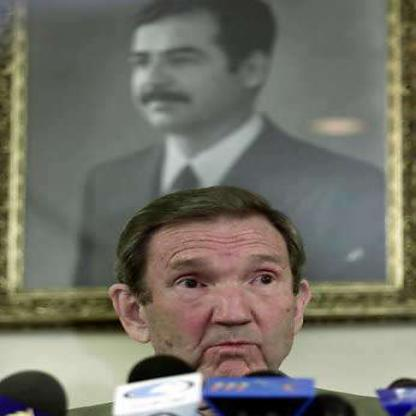face: (138, 192, 304, 390), (125, 1, 250, 136)
